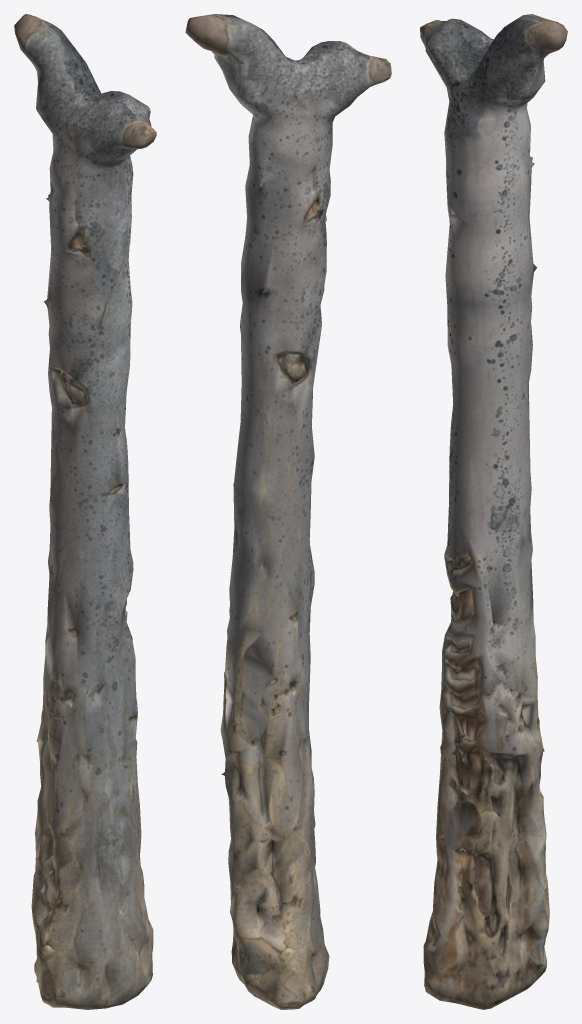
File: trunk.glb
The picture shows the model from 3 angles, left to right: view 1: azimuth 90°, elevation 25°; view 2: azimuth 150°, elevation 25°; view 3: azimuth 270°, elevation 25°; orthographic projection. The views are drawn at different scales.
Visible parts, largest first — view 1: dead_quiver_trunk_LOD0; view 2: dead_quiver_trunk_LOD0; view 3: dead_quiver_trunk_LOD0.
Boxes of the visible parts, x1,y1,x2,y2 form: dead_quiver_trunk_LOD0: [14, 14, 156, 1009]; dead_quiver_trunk_LOD0: [185, 14, 391, 1009]; dead_quiver_trunk_LOD0: [420, 14, 567, 1009].
Size of the model in its own units: 0.3053 by 1.99 by 0.2681.
1 material, 1 textured.
